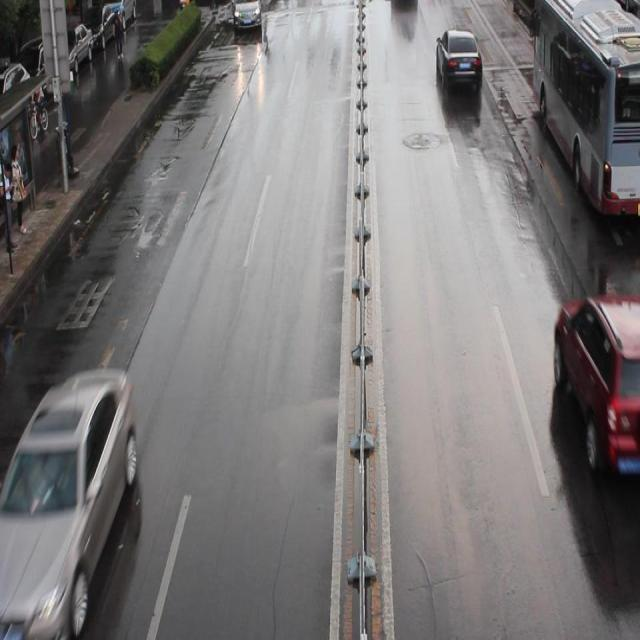car: (1, 364, 138, 629), (552, 294, 640, 480), (435, 29, 482, 86), (232, 1, 261, 30)
van: (531, 2, 640, 214)
